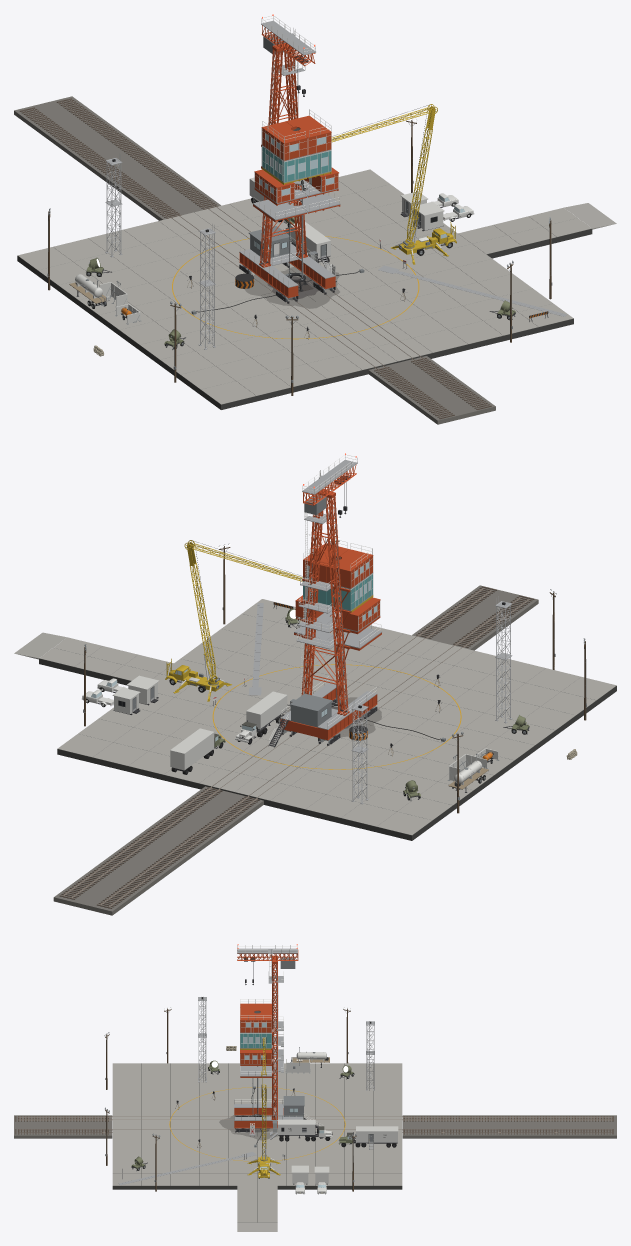
Rendered from pad.glb.
3 renders of one model, top to bottom at view 1: azimuth 30°, elevation 25°; view 2: azimuth 150°, elevation 25°; view 3: azimuth 270°, elevation 25°, orthographic. The views are drawn at different scales.
Parts seen in each view (by area): view 1: Hardstand_Concrete, Hardstand_Ballast, Hardstand_Tie, ServiceStructure_Red, Hardstand_Joint, Hardstand_Rail, ServiceStructure_Deck, ServiceStructure_Platform4_Left_Red, Hardstand_Stain, CameraTowers_Tower1_Galv, CameraTowers_Tower2_Galv, CherryPicker_Mast_Yellow (+13 smaller); view 2: Hardstand_Concrete, Hardstand_Ballast, ServiceStructure_Red, Hardstand_Tie, Hardstand_Joint, Hardstand_Rail, ServiceStructure_Deck, ServiceStructure_Grey, CameraTowers_Tower1_Galv, GroundEquipment_Trailer_TrailerVan, ServiceStructure_White, CameraTowers_Tower2_Galv (+11 smaller); view 3: Hardstand_Concrete, Hardstand_Ballast, Hardstand_Rail, ServiceStructure_Red, Hardstand_Tie, Hardstand_Joint, ServiceStructure_Deck, ServiceStructure_Grey, GroundEquipment_Trailer_TrailerVan, ServiceStructure_Platform4_Right_Red, GroundEquipment_TransferVan_TrailerTv, ServiceStructure_White (+6 smaller).
Boxes of the visible parts, left/top/right/bottom form: Hardstand_Concrete: left=18, top=169, right=591, bottom=404; Hardstand_Ballast: left=14, top=96, right=495, bottom=424; Hardstand_Tie: left=19, top=98, right=491, bottom=419; ServiceStructure_Red: left=239, top=25, right=335, bottom=298; Hardstand_Joint: left=17, top=211, right=592, bottom=409; Hardstand_Rail: left=23, top=99, right=486, bottom=416; ServiceStructure_Deck: left=239, top=20, right=335, bottom=287; ServiceStructure_Platform4_Left_Red: left=261, top=121, right=307, bottom=160; Hardstand_Stain: left=244, top=266, right=339, bottom=308; CameraTowers_Tower1_Galv: left=199, top=228, right=215, bottom=349; CameraTowers_Tower2_Galv: left=105, top=158, right=122, bottom=257; CherryPicker_Mast_Yellow: left=407, top=104, right=437, bottom=240; Hardstand_Concrete: left=39, top=599, right=616, bottom=835; Hardstand_Ballast: left=53, top=585, right=538, bottom=915; ServiceStructure_Red: left=280, top=464, right=377, bottom=740; Hardstand_Tie: left=59, top=586, right=534, bottom=908; Hardstand_Joint: left=39, top=637, right=616, bottom=840; Hardstand_Rail: left=63, top=587, right=528, bottom=907; ServiceStructure_Deck: left=280, top=460, right=376, bottom=729; ServiceStructure_Grey: left=289, top=494, right=375, bottom=741; CameraTowers_Tower1_Galv: left=495, top=601, right=512, bottom=723; GroundEquipment_Trailer_TrailerVan: left=170, top=728, right=214, bottom=770; ServiceStructure_White: left=269, top=454, right=376, bottom=745; CameraTowers_Tower2_Galv: left=351, top=704, right=368, bottom=804; Hardstand_Concrete: left=112, top=1063, right=402, bottom=1222; Hardstand_Ballast: left=14, top=1115, right=616, bottom=1138; Hardstand_Rail: left=18, top=1116, right=612, bottom=1132; ServiceStructure_Red: left=234, top=950, right=298, bottom=1128; Hardstand_Tie: left=15, top=1116, right=613, bottom=1134; Hardstand_Joint: left=112, top=1063, right=402, bottom=1222; ServiceStructure_Deck: left=234, top=948, right=303, bottom=1135; ServiceStructure_Grey: left=239, top=957, right=304, bottom=1131; GroundEquipment_Trailer_TrailerVan: left=356, top=1126, right=398, bottom=1143; ServiceStructure_Platform4_Right_Red: left=240, top=1012, right=271, bottom=1032; GroundEquipment_TransferVan_TrailerTv: left=277, top=1119, right=315, bottom=1134; ServiceStructure_White: left=234, top=945, right=323, bottom=1127.
Bounding box in the file's own units: 90.64 × 42.38 × 127.
